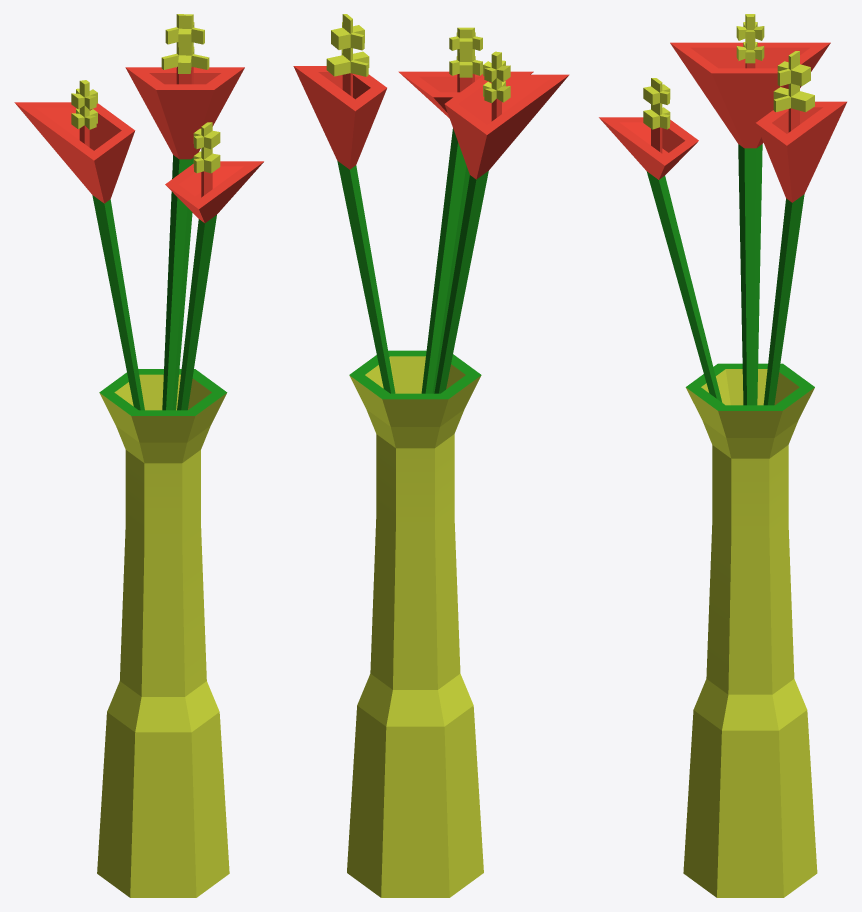
Rendered from Vase02.fbx.
The picture shows the model from 3 angles, left to right: view 1: azimuth 30°, elevation 25°; view 2: azimuth 150°, elevation 25°; view 3: azimuth 270°, elevation 25°; orthographic projection. The views are drawn at different scales.
Visible parts, largest first — view 1: Vase02; view 2: Vase02; view 3: Vase02.
Part boxes in pixels (left/top/right/bottom): Vase02: left=14, top=14, right=263, bottom=897; Vase02: left=293, top=14, right=569, bottom=897; Vase02: left=599, top=14, right=846, bottom=897.
Size of the model in its own units: 0.1851 by 0.1889 by 0.7041.
